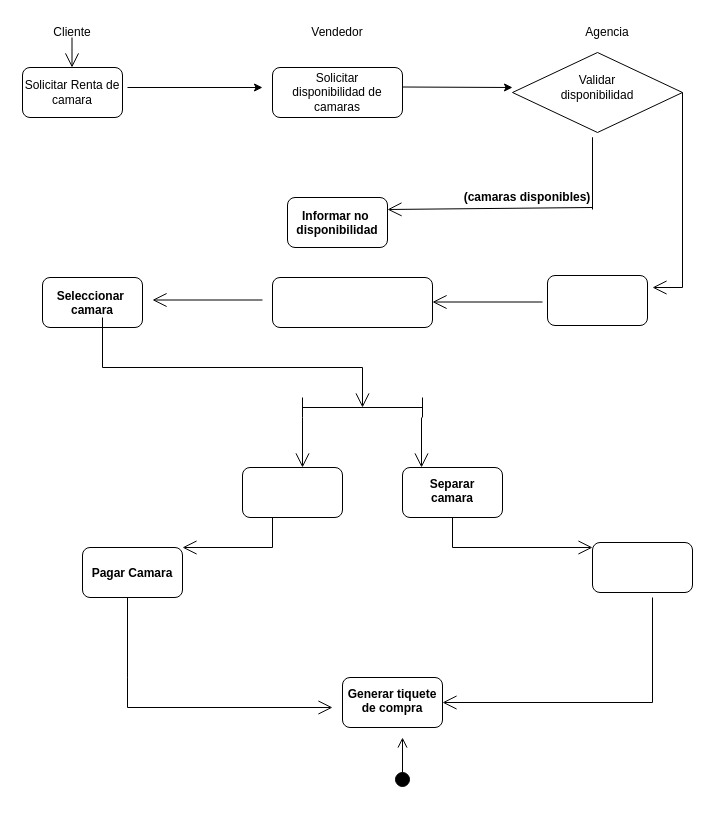
The diagram is 714 pixels wide and 815 high, and some of its shapes have lost their labels. Each missing label, with the centre of its shape:
"Confirmar pago" belongs at (642,567).
"Informar detalles y precios de camaras" belongs at (352,302).
"Mostrar detalles de camaras" belongs at (597,300).
"Solicitar Pago" belongs at (292,492).
